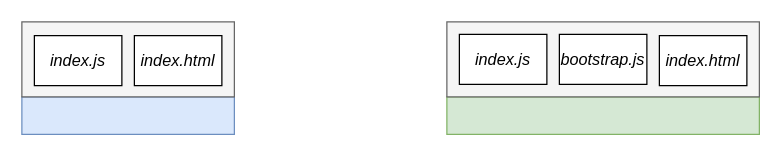
Some shapes in this 781 by 156 pixel diagram are drawn without their labels. The shapes that lost their labels are listed below. From the top down, each one's centre as x and y in pixels, then its label:
At (127,115): "Products".
At (602,115): "Container".
